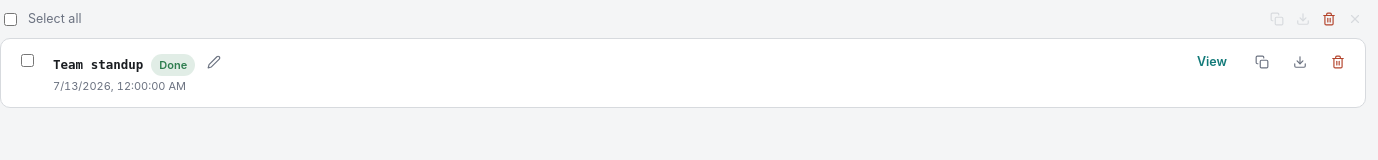
HistoryView › renaming › clearing the title reverts the row to showing the filename again
Check: the text "Team standup" is shown, box 53,56 -> 143,75
Click the button named "Rename" at (214, 62), box 203,51 -> 225,73
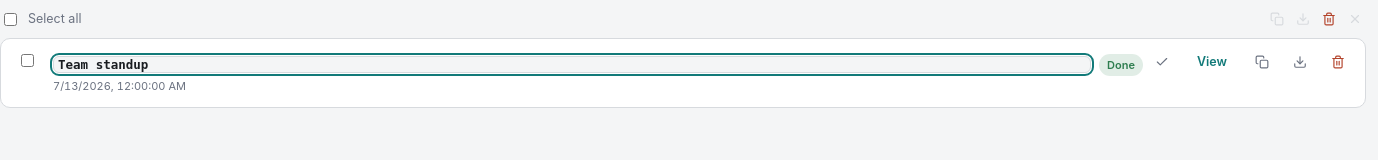
Clear the field named "Rename" at (572, 64), box 53,56 -> 1091,73
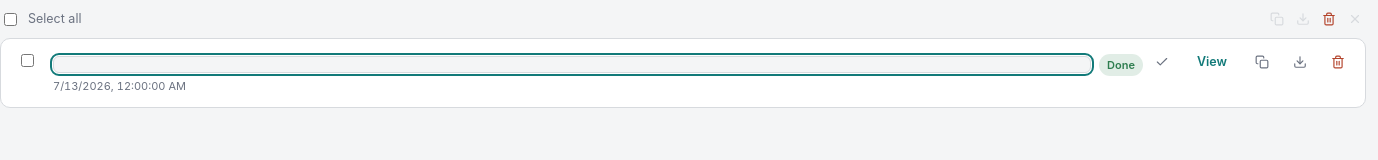
Press Enter in the field named "Rename", box 53,56 -> 1091,73
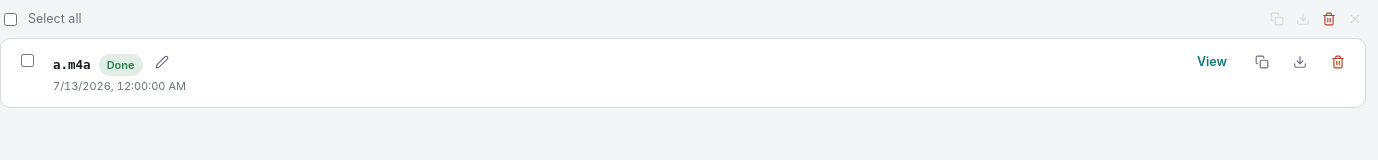
Check: the text "a.m4a" is shown, box 53,56 -> 91,75
